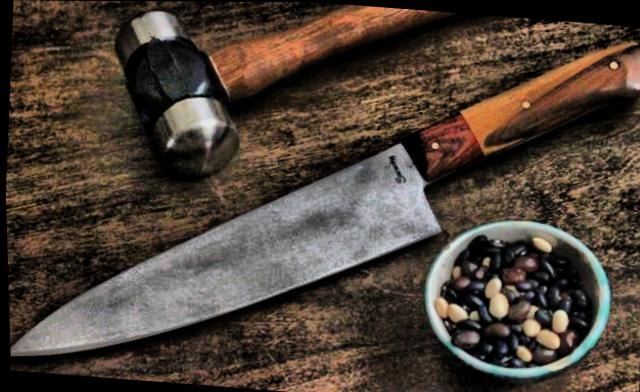knife: (2, 104, 452, 392)
